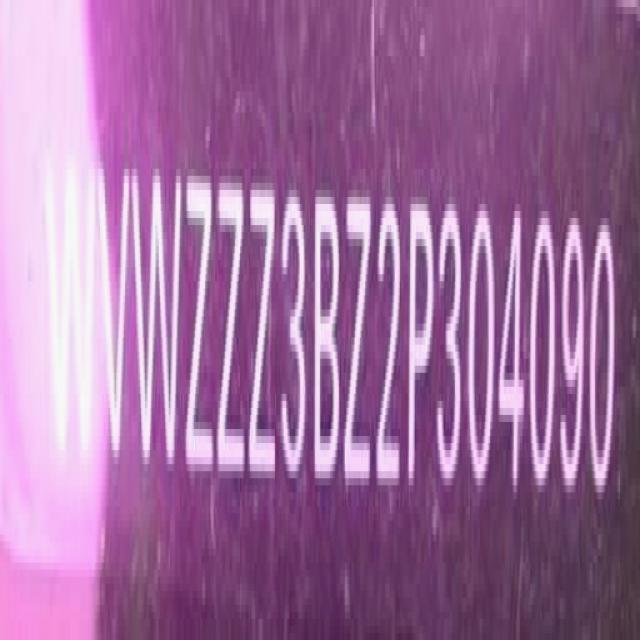0: (467, 207, 496, 498), (528, 212, 556, 497), (592, 221, 620, 503)
2: (378, 194, 406, 501)
3: (282, 183, 311, 489), (437, 200, 464, 498)
4: (498, 207, 528, 498)
9: (559, 217, 588, 498)
B: (314, 182, 340, 490)
R: (408, 196, 435, 501)
V: (96, 151, 130, 469)
W: (43, 141, 96, 483), (133, 161, 184, 483)
Z: (216, 173, 248, 490), (186, 169, 216, 485), (247, 175, 277, 489), (346, 191, 375, 496)
